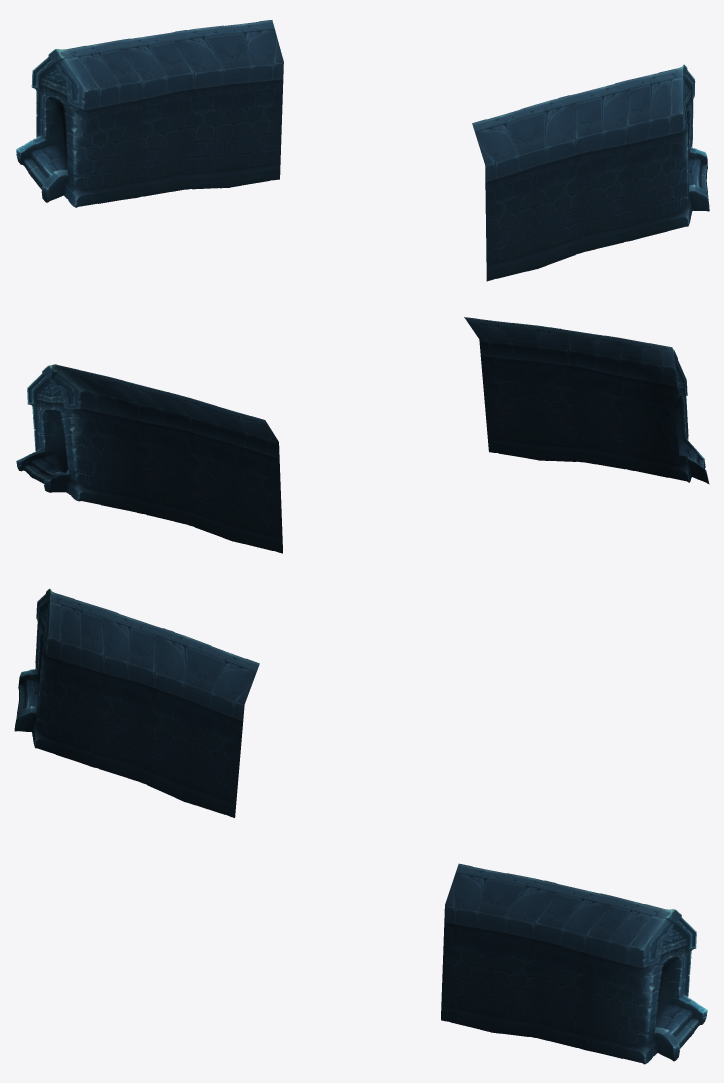
Rendered from Dark Forest Crypt C.FBX.
3 renders of one model, top to bottom at view 1: azimuth 30°, elevation 25°; view 2: azimuth 150°, elevation 25°; view 3: azimuth 330°, elevation 25°, orthographic.
Parts seen in each view (by area): view 1: Crypt Entrance C; view 2: Crypt Entrance C; view 3: Crypt Entrance C.
Part boxes in pixels (left/top/right/bottom): Crypt Entrance C: left=16, top=20, right=709, bottom=281; Crypt Entrance C: left=16, top=317, right=709, bottom=553; Crypt Entrance C: left=14, top=588, right=707, bottom=1064.
Size of the model in its own units: 3016 by 198 by 1365.
